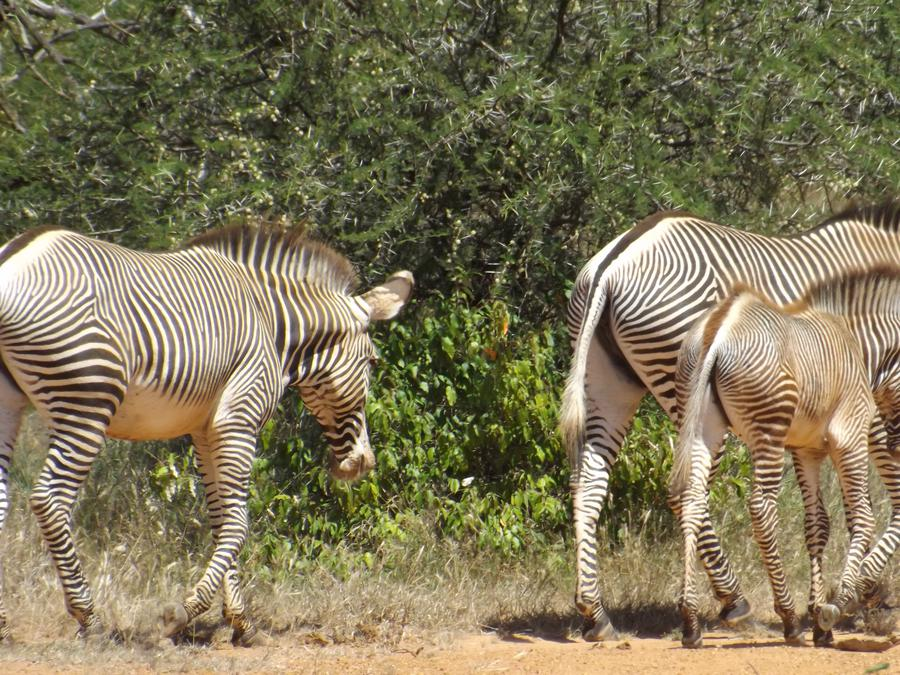zebra_grevys: (4, 202, 260, 434)
